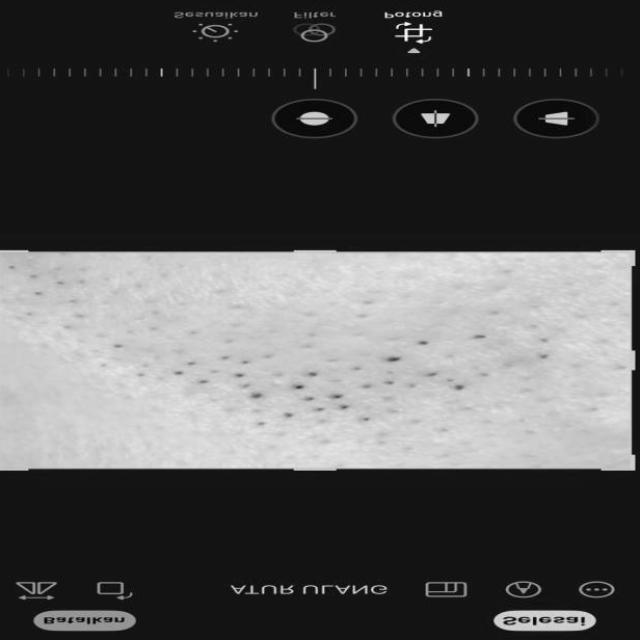blackhead: (140, 313, 547, 455)
